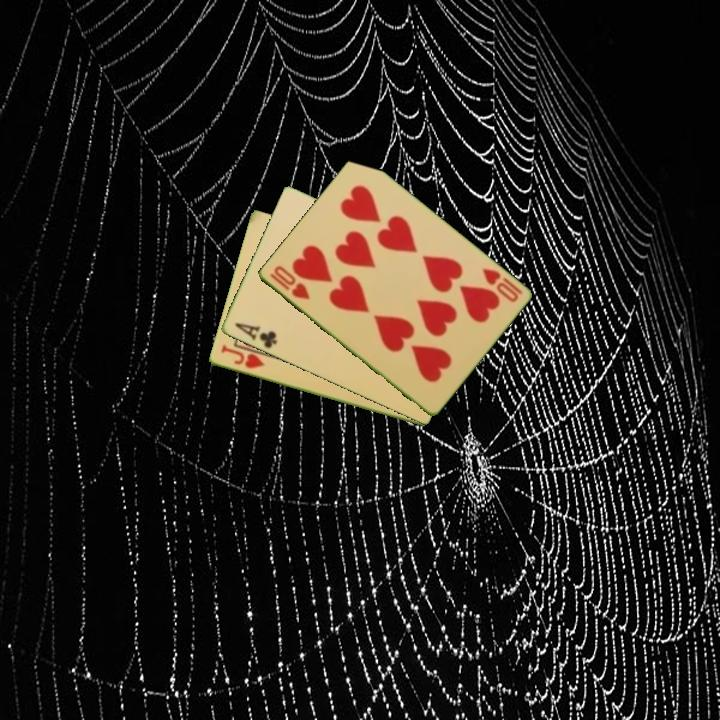10h: (266, 262, 313, 303), (478, 265, 525, 305)
Ac: (231, 319, 280, 352)
Jh: (217, 341, 267, 371)
